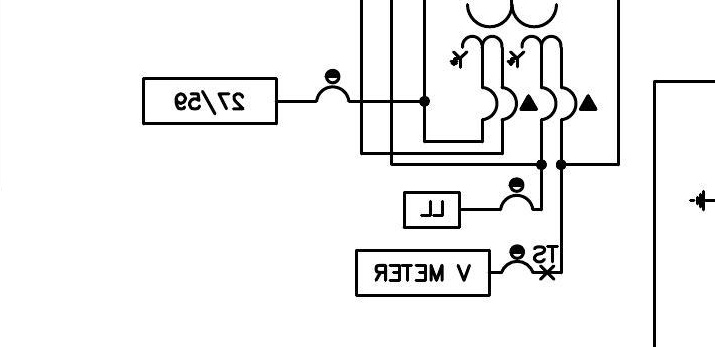LL: (402, 190, 462, 230)
v_m_digital: (354, 248, 492, 298)
